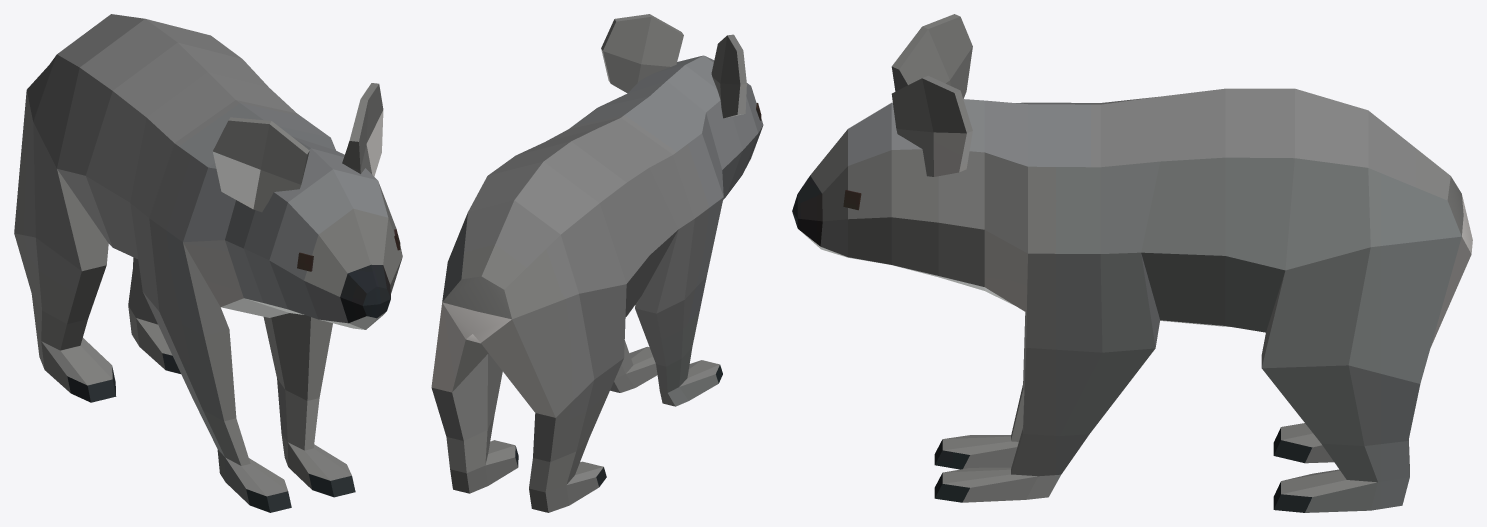
The model's file is prop_pz_koala.glb.
3 renders of one model, left to right at view 1: azimuth 30°, elevation 25°; view 2: azimuth 150°, elevation 25°; view 3: azimuth 270°, elevation 25°, orthographic. The views are drawn at different scales.
Parts seen in each view (by area): view 1: Geo_Koala; view 2: Geo_Koala; view 3: Geo_Koala.
Part boxes in pixels (<box>): Geo_Koala: <box>14,14,402,512</box>; Geo_Koala: <box>431,14,763,512</box>; Geo_Koala: <box>792,14,1472,512</box>.
Size of the model in its own units: 48.04 by 97.6 by 142.
Materials: 1 (1 with a texture image).
